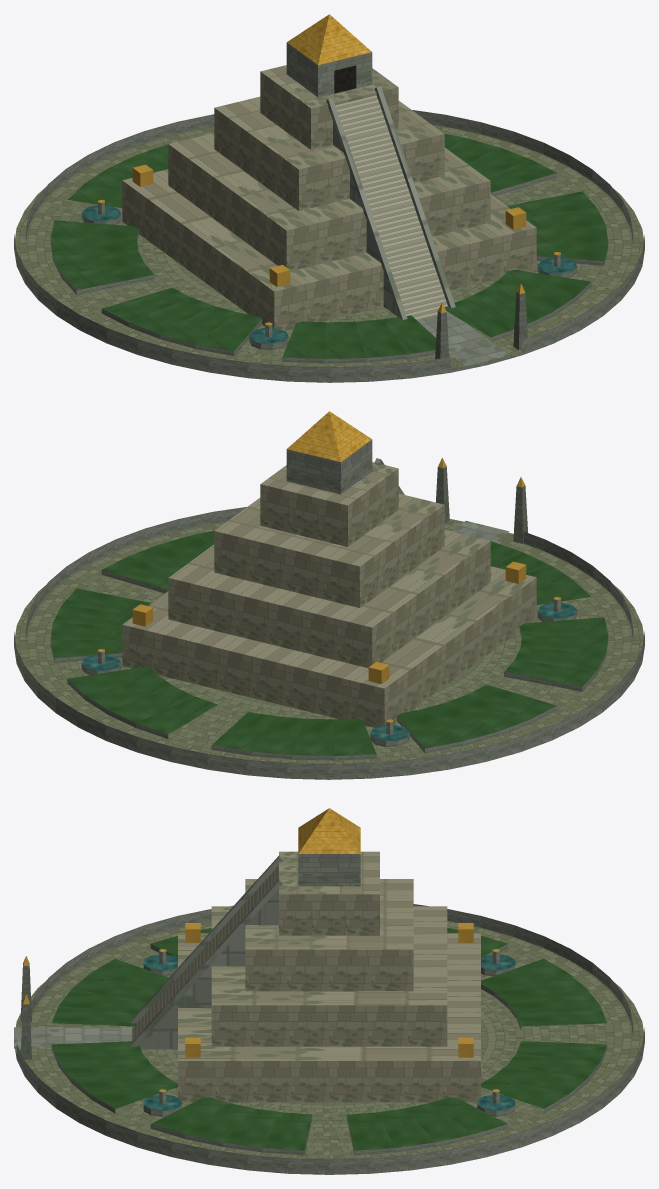
File: pyramid_large_lod0.glb
The picture shows the model from 3 angles, top to bottom: view 1: azimuth 30°, elevation 25°; view 2: azimuth 150°, elevation 25°; view 3: azimuth 270°, elevation 25°; orthographic projection.
Visible parts, largest first — view 1: pyramid_large_lod0; view 2: pyramid_large_lod0; view 3: pyramid_large_lod0.
Boxes of the visible parts, x1,y1,x2,y2 form: pyramid_large_lod0: (14,14,644,382); pyramid_large_lod0: (14,411,644,779); pyramid_large_lod0: (14,808,644,1174).
Size of the model in its own units: 1.89 by 0.779 by 1.9.
Materials: 1 (1 with a texture image).
